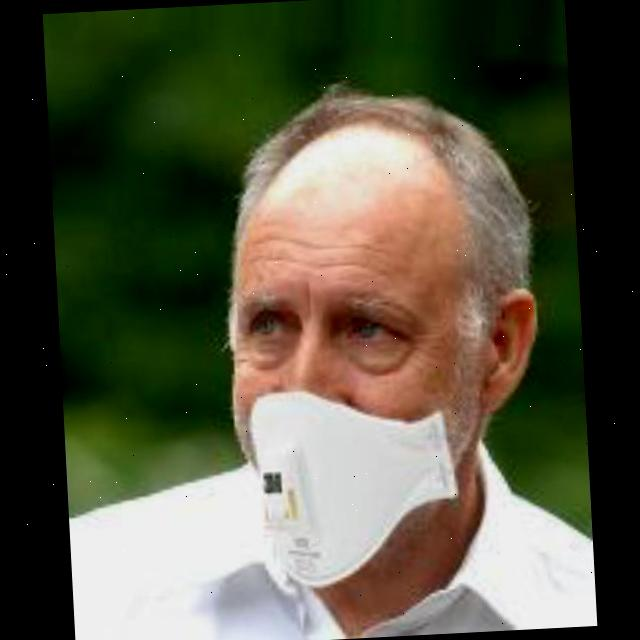suspicion: (195, 124, 538, 586)
